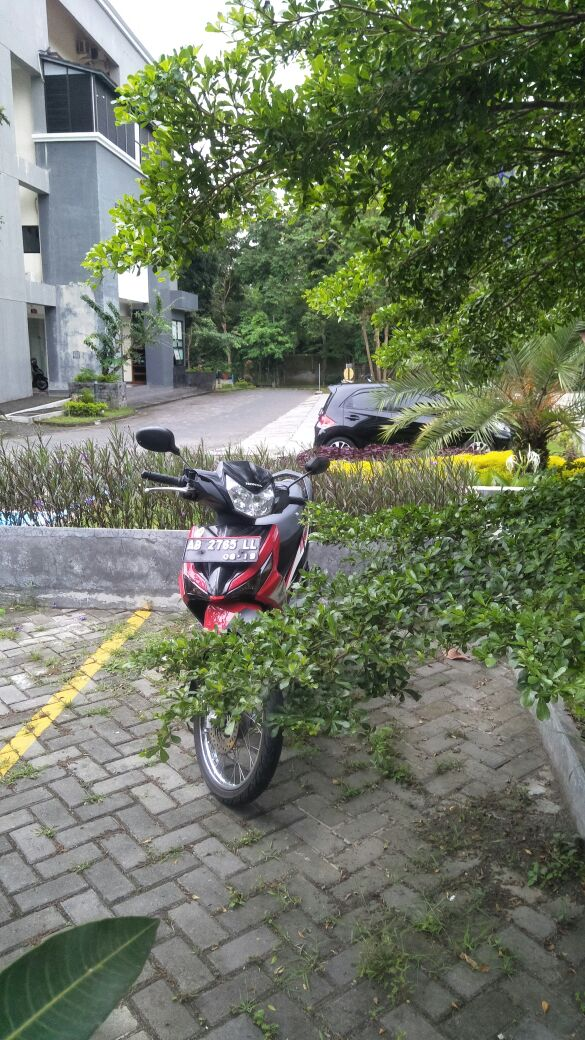plate: (183, 536, 262, 560)
